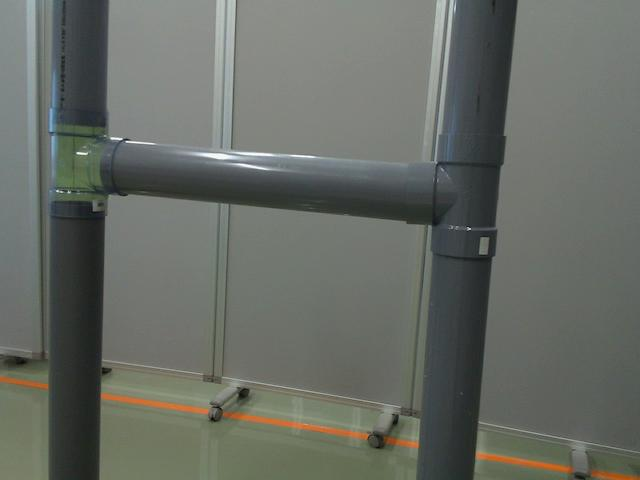junction: (407, 132, 510, 258), (46, 116, 133, 228)
